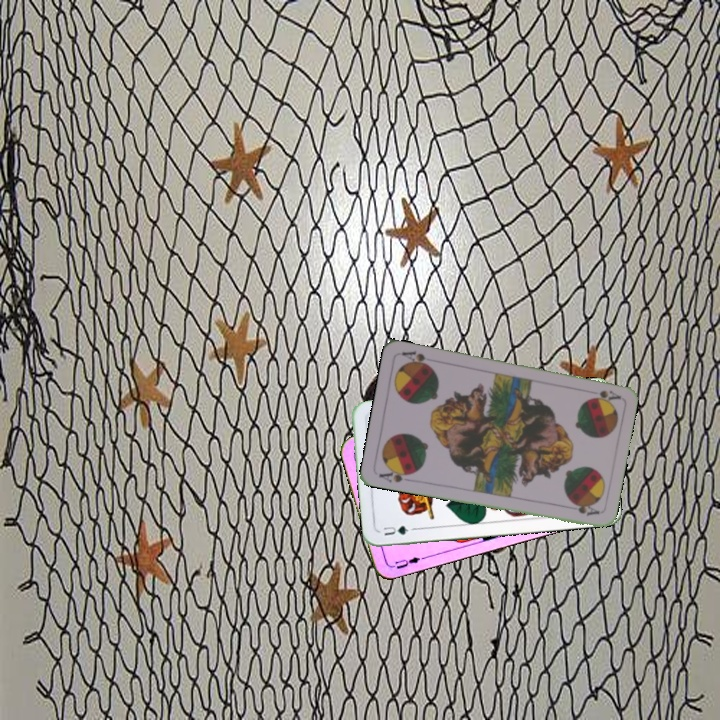EU: (387, 552, 423, 571)
GU: (379, 521, 417, 538)
SA: (374, 464, 416, 485), (590, 386, 622, 403)
